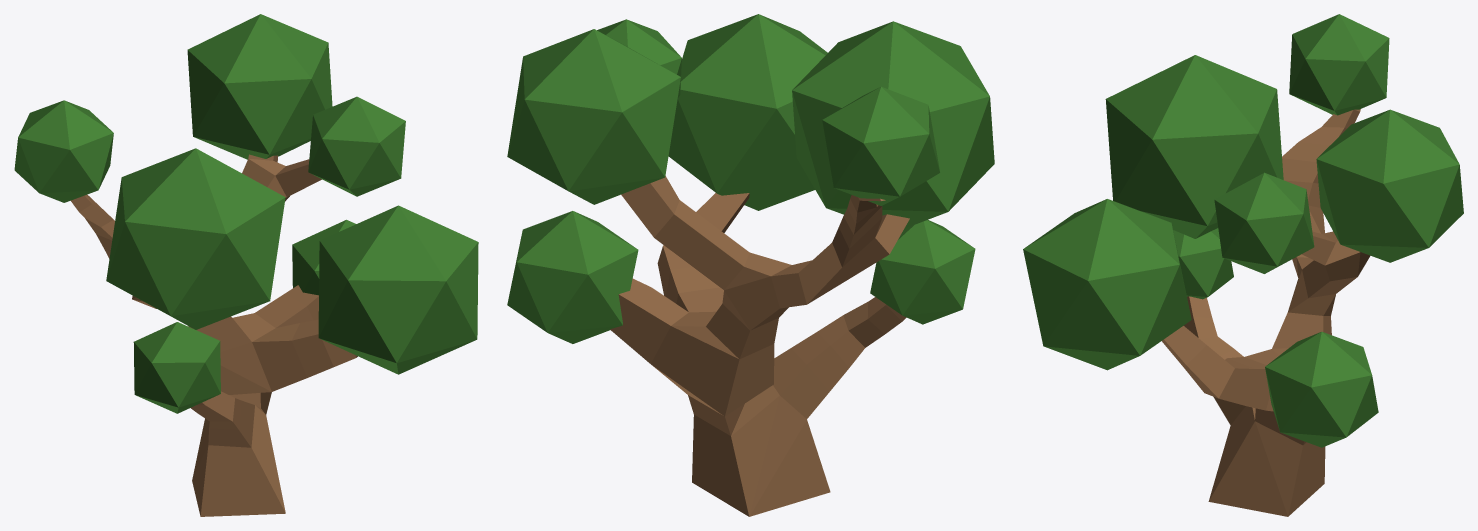
The model's file is HangingTree.gltf.
The picture shows the model from 3 angles, left to right: view 1: azimuth 30°, elevation 25°; view 2: azimuth 150°, elevation 25°; view 3: azimuth 270°, elevation 25°; orthographic projection. The views are drawn at different scales.
Parts seen in each view (by area): view 1: Icosphere.003, Trunk, Icosphere.004, Icosphere, Icosphere.002, Icosphere.001, Icosphere.006, Icosphere.005; view 2: Trunk, Icosphere, Icosphere.004, Icosphere.003, Icosphere.005, Icosphere.002, Icosphere.006, Icosphere.001; view 3: Trunk, Icosphere.003, Icosphere.004, Icosphere, Icosphere.005, Icosphere.002, Icosphere.001, Icosphere.006.
Part boxes in pixels (box(x1,y1,x2,y2)): Icosphere.003: box(106, 148, 285, 329); Trunk: box(71, 154, 357, 516); Icosphere.004: box(318, 205, 478, 374); Icosphere: box(187, 14, 332, 159); Icosphere.002: box(14, 100, 113, 202); Icosphere.001: box(308, 96, 405, 196); Icosphere.006: box(133, 322, 220, 413); Icosphere.005: box(292, 219, 356, 295); Trunk: box(610, 176, 909, 516); Icosphere: box(507, 29, 680, 204); Icosphere.004: box(668, 14, 827, 210); Icosphere.003: box(792, 21, 994, 228); Icosphere.005: box(507, 211, 638, 343); Icosphere.002: box(822, 86, 939, 205); Icosphere.006: box(870, 220, 975, 324); Icosphere.001: box(597, 19, 681, 98); Trunk: box(1162, 109, 1370, 516); Icosphere.003: box(1105, 55, 1283, 238); Icosphere.004: box(1023, 199, 1191, 370); Icosphere: box(1316, 109, 1463, 262); Icosphere.005: box(1265, 331, 1378, 447); Icosphere.002: box(1289, 14, 1389, 115); Icosphere.001: box(1214, 172, 1314, 273); Icosphere.006: box(1173, 228, 1233, 299).
Bounding box in the file's own units: 3.87 × 4.23 × 3.99.
